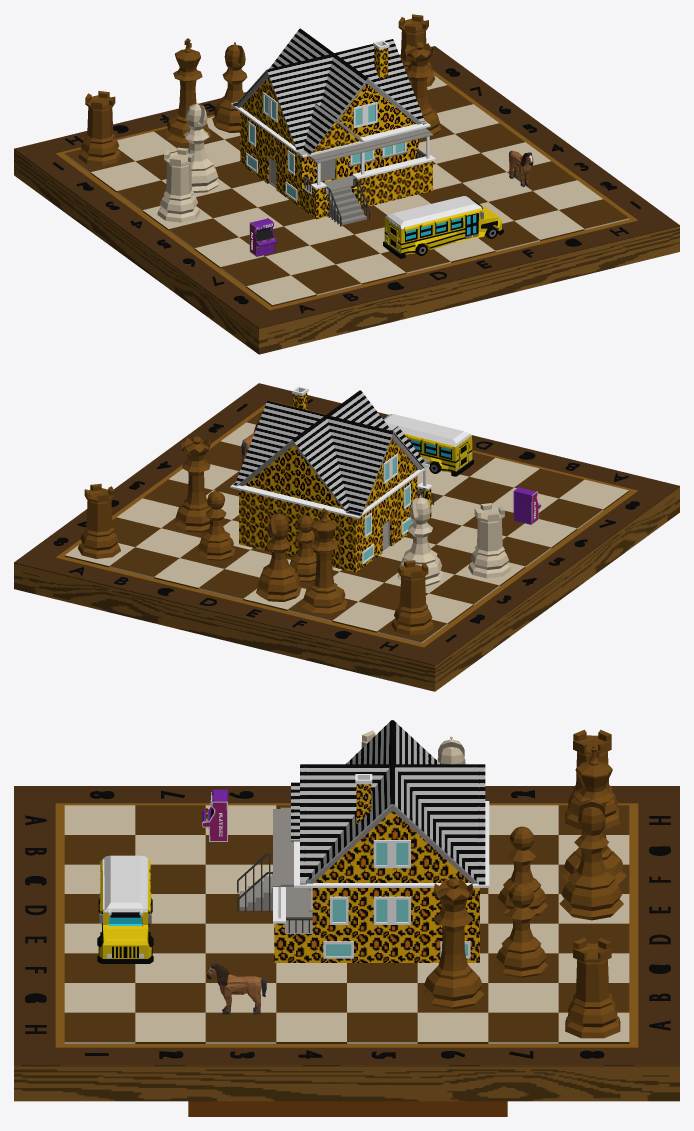
The picture shows the model from 3 angles, top to bottom: view 1: azimuth 30°, elevation 25°; view 2: azimuth 150°, elevation 25°; view 3: azimuth 270°, elevation 25°; orthographic projection. The views are drawn at different scales.
Parts seen in each view (by area): view 1: Cube.002, Cube.637, VEHICLES_SCHOOL_BUS, OBJRANDOM_ARCADE, ANIMAL_CABALLO; view 2: Cube.002, Cube.637, VEHICLES_SCHOOL_BUS, OBJRANDOM_ARCADE; view 3: Cube.002, Cube.637, VEHICLES_SCHOOL_BUS, UNDERGROUND_ART_PIECE_VAN_GOGH, ANIMAL_CABALLO, OBJRANDOM_ARCADE.
Boxes of the visible parts, <box> form: Cube.002: <box>14,14,679,354</box>; Cube.637: <box>231,28,435,226</box>; VEHICLES_SCHOOL_BUS: <box>383,196,503,258</box>; OBJRANDOM_ARCADE: <box>249,218,277,256</box>; ANIMAL_CABALLO: <box>508,150,533,187</box>; Cube.002: <box>14,383,679,691</box>; Cube.637: <box>230,386,433,572</box>; VEHICLES_SCHOOL_BUS: <box>382,414,473,476</box>; OBJRANDOM_ARCADE: <box>513,487,541,524</box>; Cube.002: <box>14,729,679,1101</box>; Cube.637: <box>237,720,489,962</box>; VEHICLES_SCHOOL_BUS: <box>97,855,153,963</box>; UNDERGROUND_ART_PIECE_VAN_GOGH: <box>188,1101,507,1116</box>; ANIMAL_CABALLO: <box>207,962,266,1014</box>; OBJRANDOM_ARCADE: <box>202,789,227,841</box>.
Size of the model in its own units: 3981 by 1610 by 4012.
44 materials, 4 textured.
